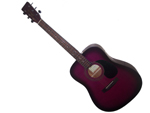guitar: (21, 1, 142, 112)
